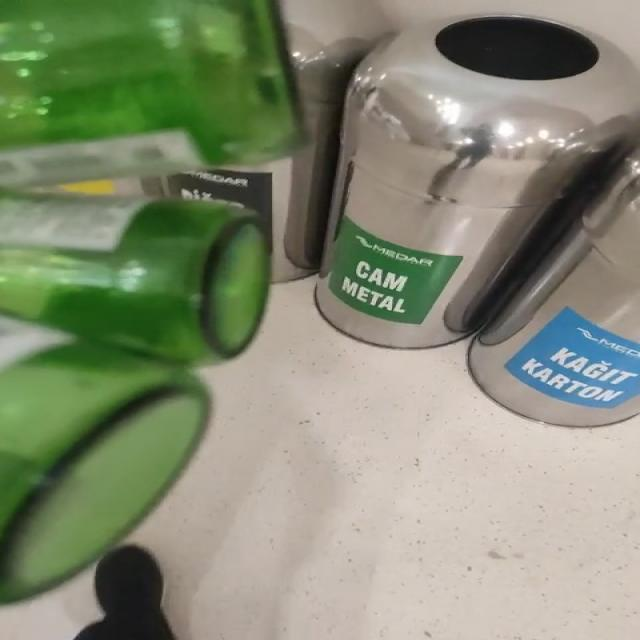glass: (0, 0, 301, 603)
